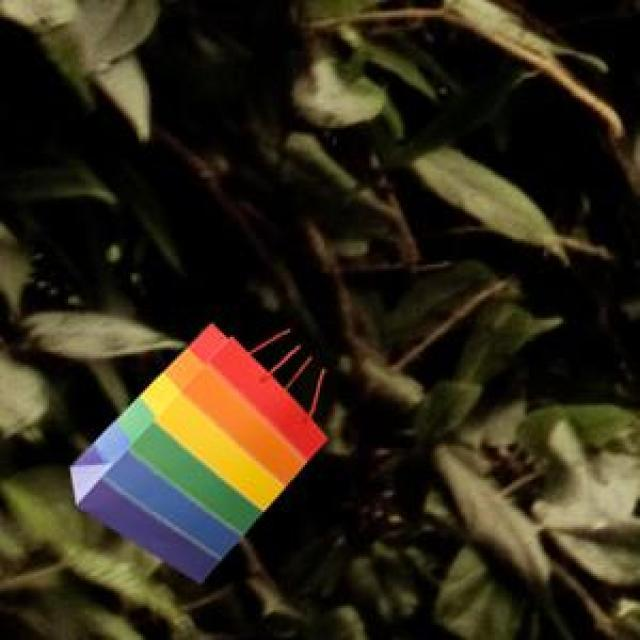paper: (66, 320, 322, 578)
